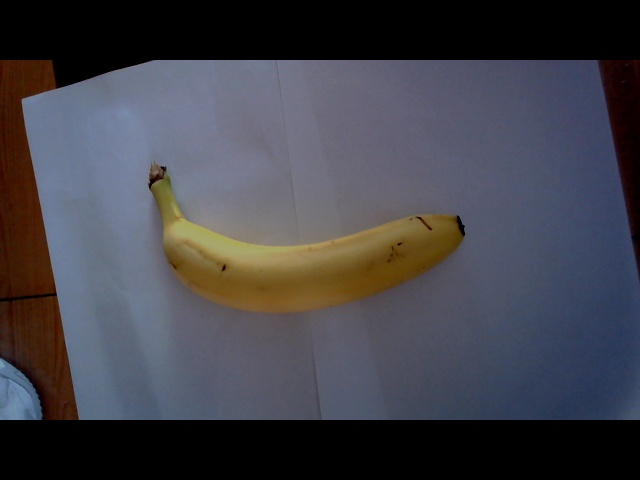banana: (139, 182, 470, 308)
